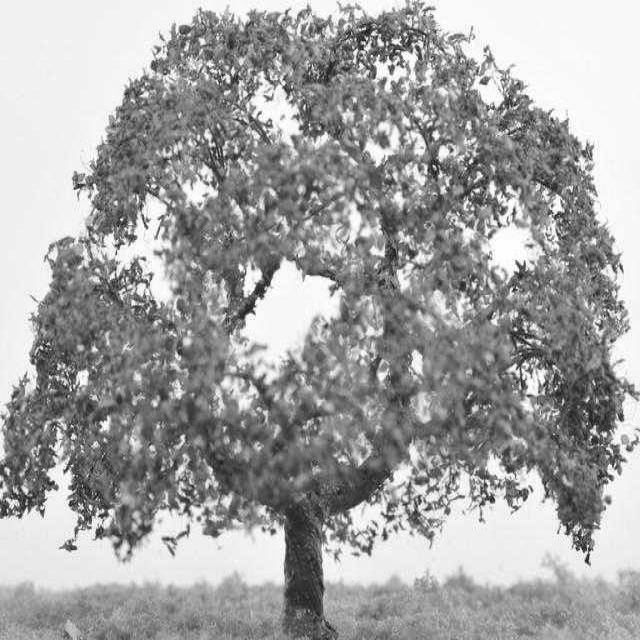Tree: (0, 3, 635, 637)
